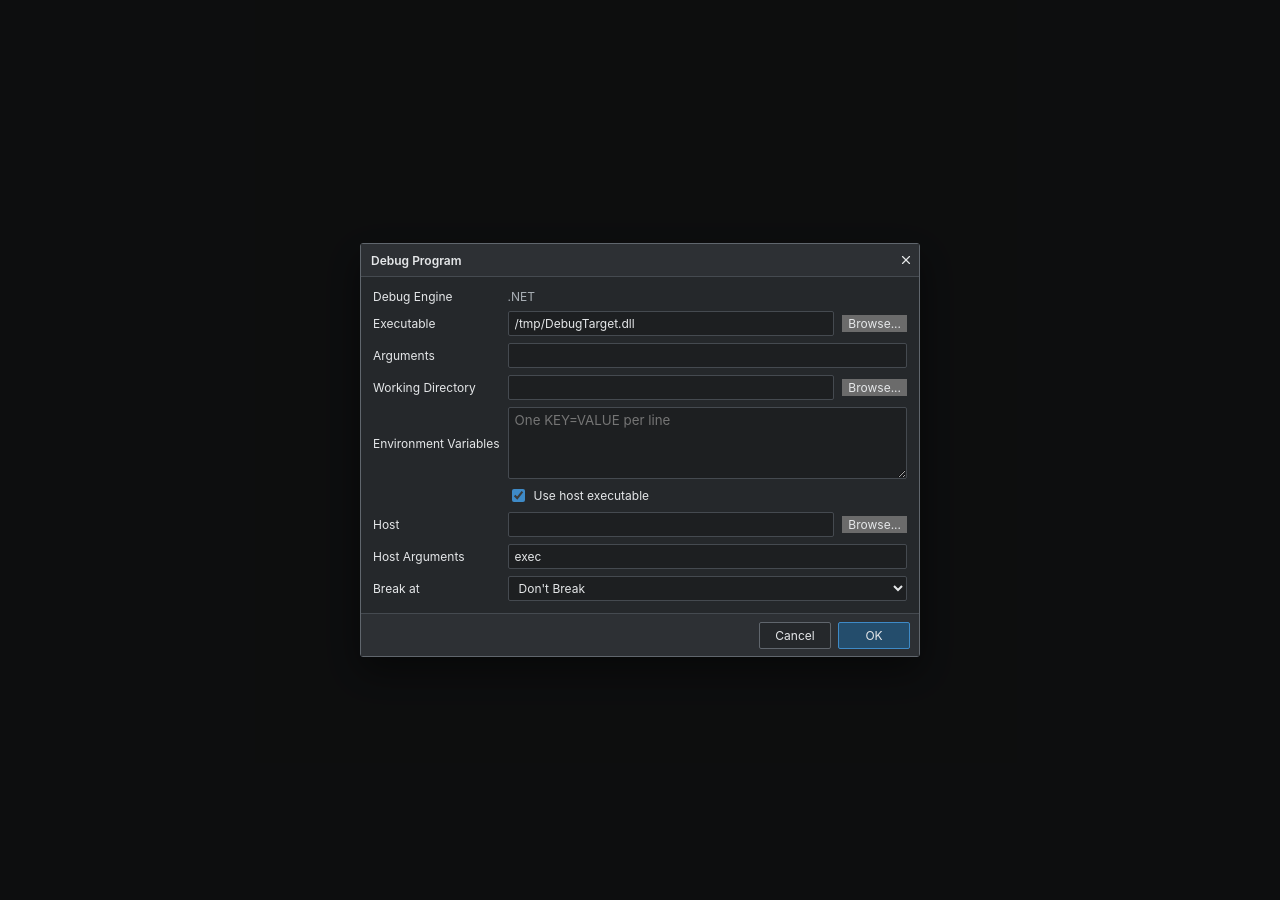
Test case: DebugProgramDialog › flags an executable that is not a file on disk and clears the flag when it is
Step 1. Replace the text in the field labelled "Executable" with "/tmp/Gone.dll" → (671, 324), box [508,311,834,336]
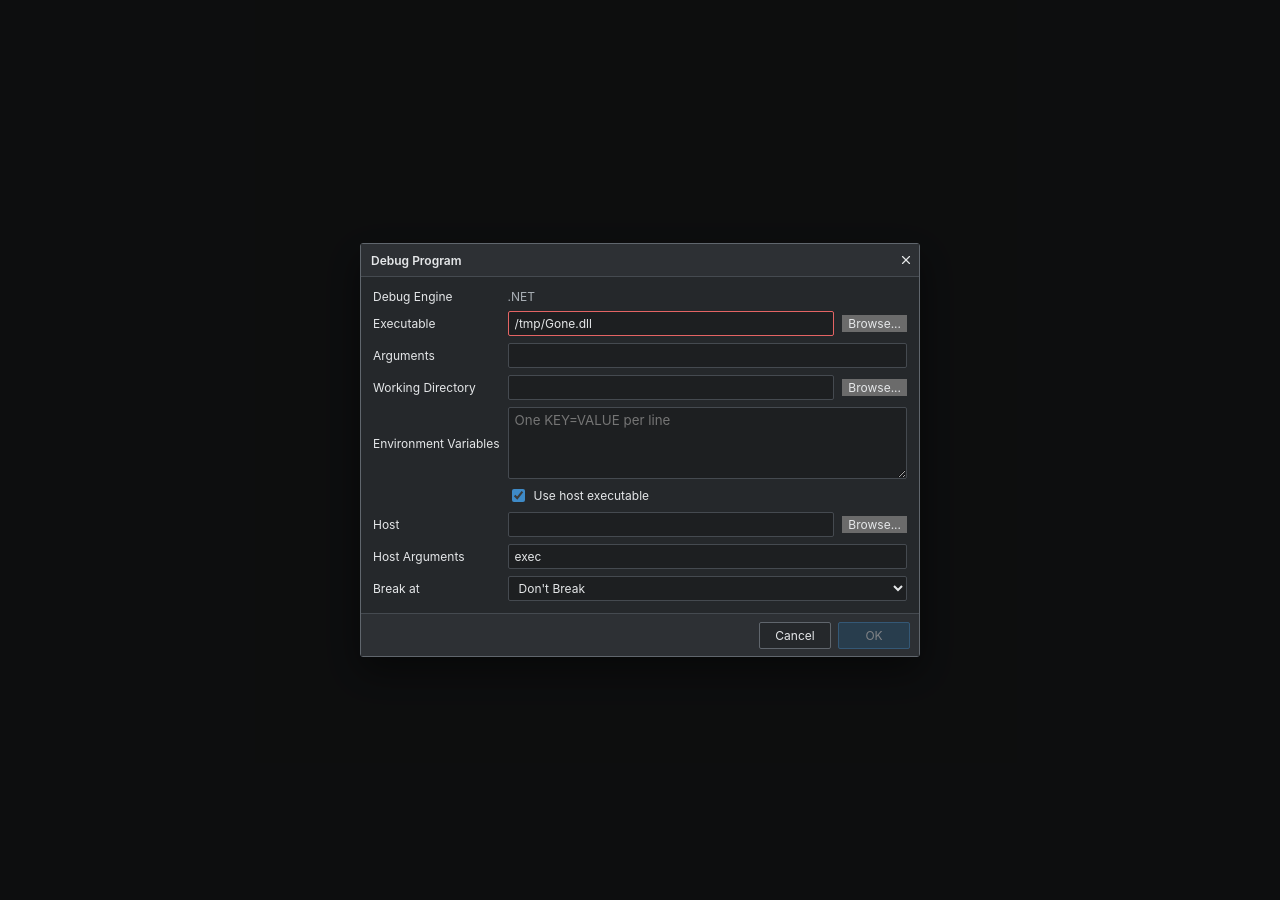
Now the button "OK" is disabled, box [838,622,910,648]
Step 2. Replace the text in the field labelled "Executable" with "/tmp/DebugTarget.dll" → (671, 324), box [508,311,834,336]
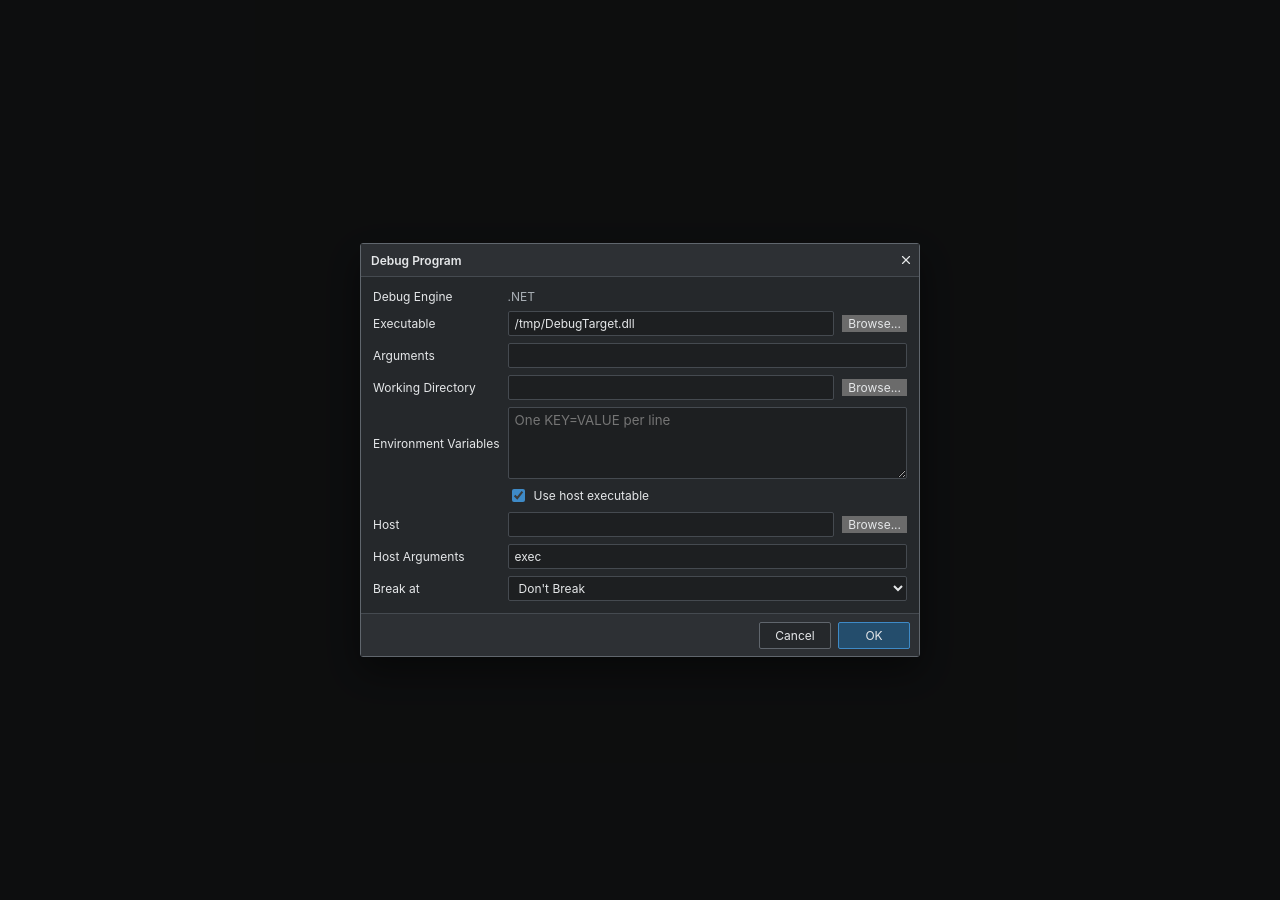
Now the button "OK" is enabled, box [838,622,910,648]
